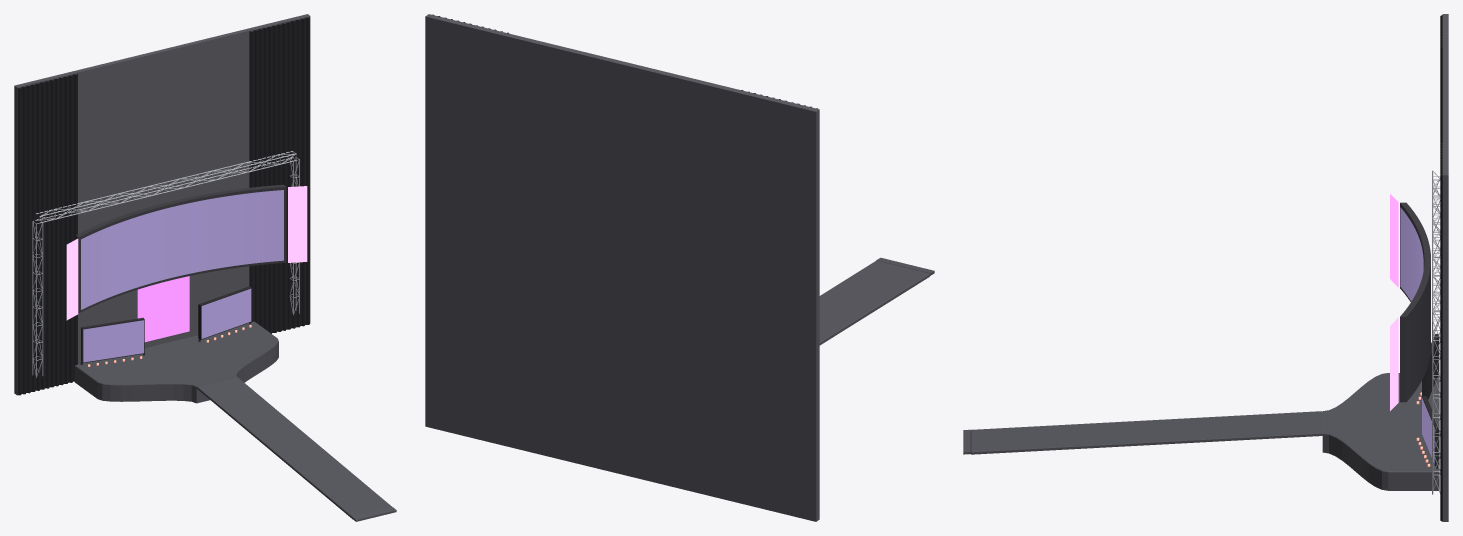
Rendered from entrance_set.glb.
The picture shows the model from 3 angles, left to right: view 1: azimuth 30°, elevation 25°; view 2: azimuth 150°, elevation 25°; view 3: azimuth 270°, elevation 25°; orthographic projection. The views are drawn at different scales.
Parts seen in each view (by area): view 1: StageBackdrop, StageDrape, EntranceStage, StageScreen, StageTruss, StageSideScreens, StageCentreScreen, StageScreenWings, StageScreenBezel, StageSideScreenFrame; view 2: StageBackdrop, EntranceStage; view 3: EntranceStage, StageScreenBezel, StageBackdrop, StageTruss, StageScreen, StageScreenWings, StageDrape, StageSideScreenFrame.
Part boxes in pixels (x1=…): StageBackdrop: x1=14, y1=14, x2=310, y2=394; StageDrape: x1=17, y1=17, x2=310, y2=395; EntranceStage: x1=74, y1=321, x2=396, y2=521; StageScreen: x1=81, y1=190, x2=283, y2=309; StageTruss: x1=32, y1=151, x2=299, y2=377; StageSideScreens: x1=83, y1=288, x2=251, y2=362; StageCentreScreen: x1=137, y1=276, x2=189, y2=342; StageScreenWings: x1=66, y1=186, x2=307, y2=320; StageScreenBezel: x1=76, y1=184, x2=286, y2=313; StageSideScreenFrame: x1=80, y1=286, x2=251, y2=364; StageBackdrop: x1=425, y1=14, x2=819, y2=521; EntranceStage: x1=819, y1=257, x2=934, y2=345; EntranceStage: x1=963, y1=373, x2=1439, y2=490; StageScreenBezel: x1=1400, y1=202, x2=1430, y2=402; StageBackdrop: x1=1442, y1=14, x2=1448, y2=521; StageTruss: x1=1432, y1=170, x2=1440, y2=494; StageScreen: x1=1400, y1=207, x2=1423, y2=301; StageScreenWings: x1=1390, y1=194, x2=1398, y2=410; StageDrape: x1=1440, y1=15, x2=1442, y2=521; StageSideScreenFrame: x1=1422, y1=334, x2=1439, y2=468.
Size of the model in its own units: 26.04 by 26.28 by 33.1.
